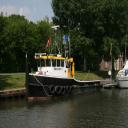tugboat: (25, 25, 104, 105)
